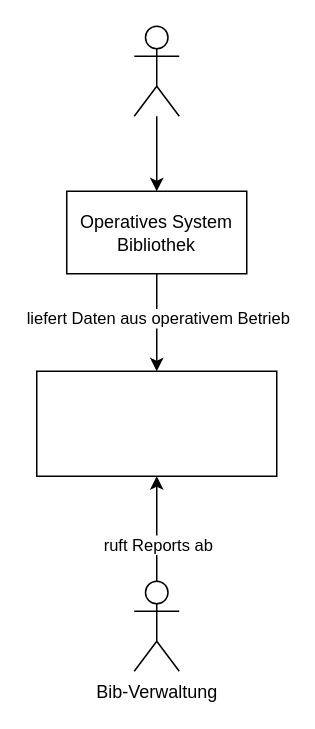
The diagram is 315 pixels wide and 729 high, and some of its shapes have lost their labels. Each missing label, with the centre of its shape:
"Bibliotheks-BI-System" belongs at (156,423).
"Biblothekar*in" belongs at (156,70).
